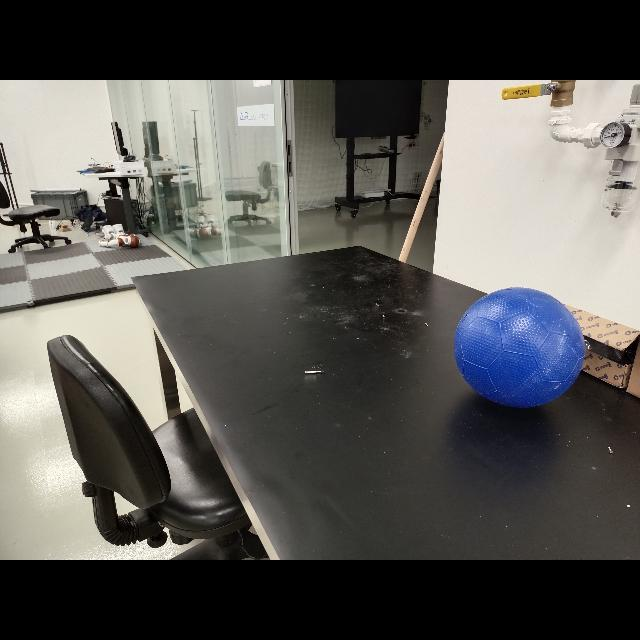B: (455, 286, 587, 412)
